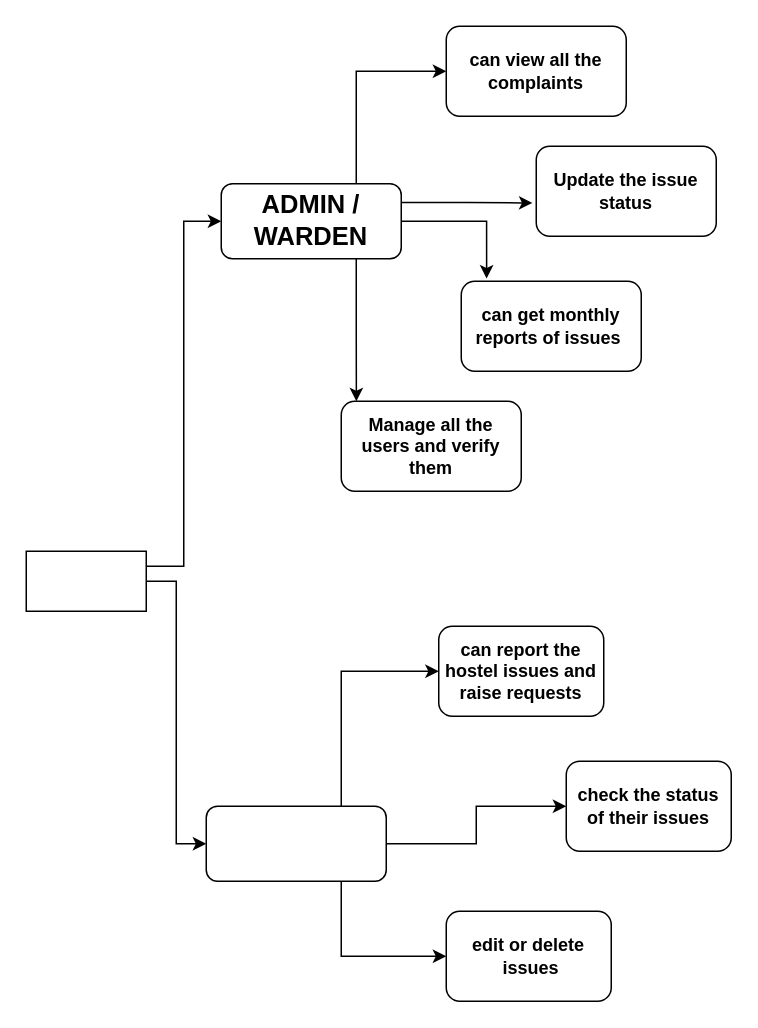
Some shapes in this 758 by 1028 pixel diagram are drawn without their labels. Here are the shapes that lost their labels. From the top down, the box of each, then its label:
(25, 550, 146, 611): USER
(205, 805, 386, 881): STUDENTS
